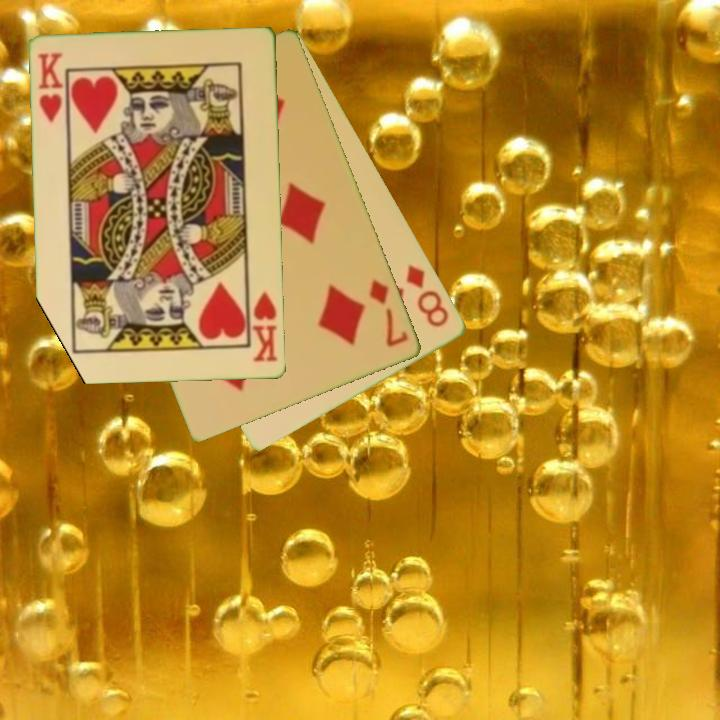7d: (366, 275, 412, 350)
8d: (403, 261, 453, 331)
Kh: (245, 285, 281, 365), (34, 49, 66, 126)
